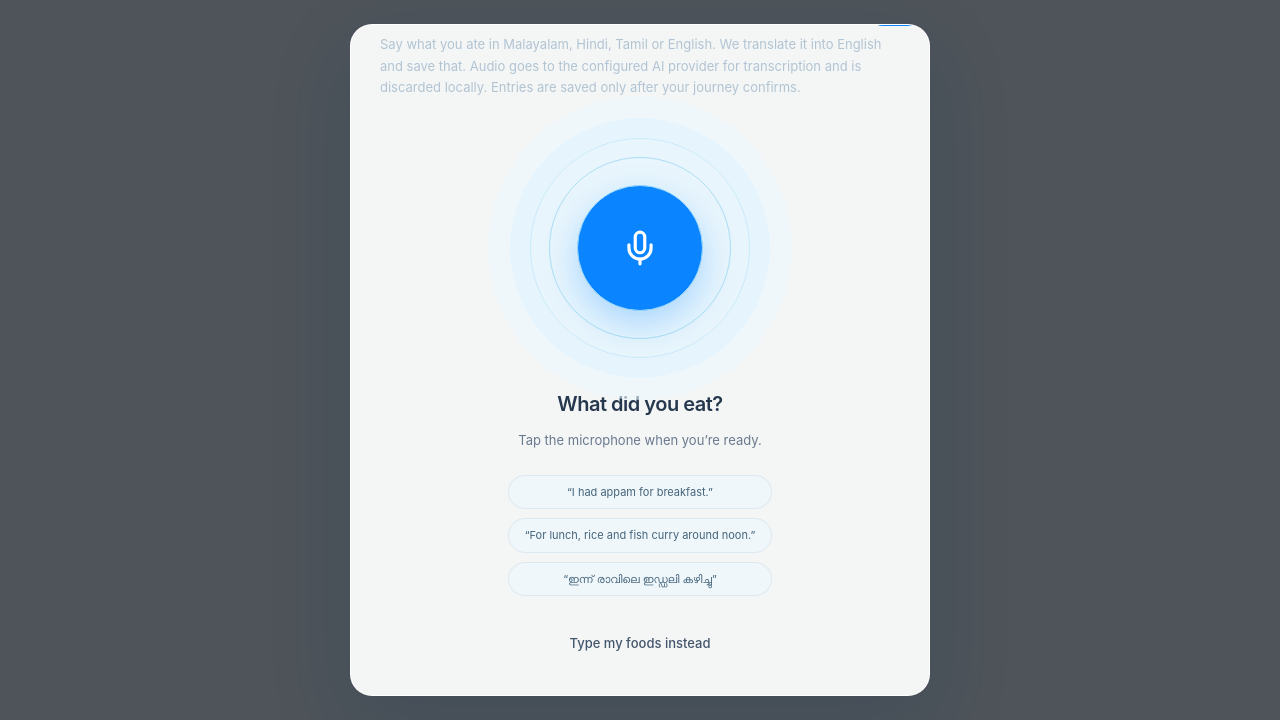
Test case: permission and honest fallback interactions › food voice mode offers an editable meal report without claiming it saved
Later steps or results of the test are not shown.
(page scrolled)
Click the button "Type my foods instead": (640, 643) [552,620,728,666]
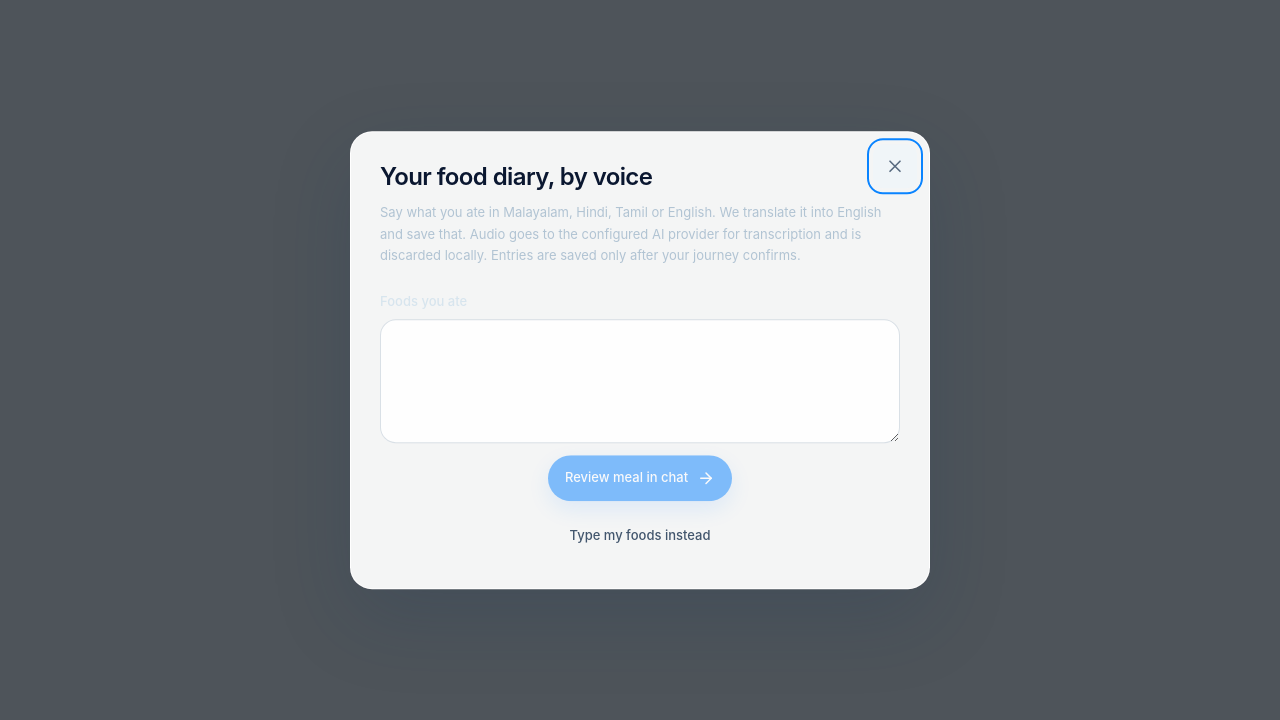
Expected: the button "Review meal in chat" is disabled, [548,455,732,501]
